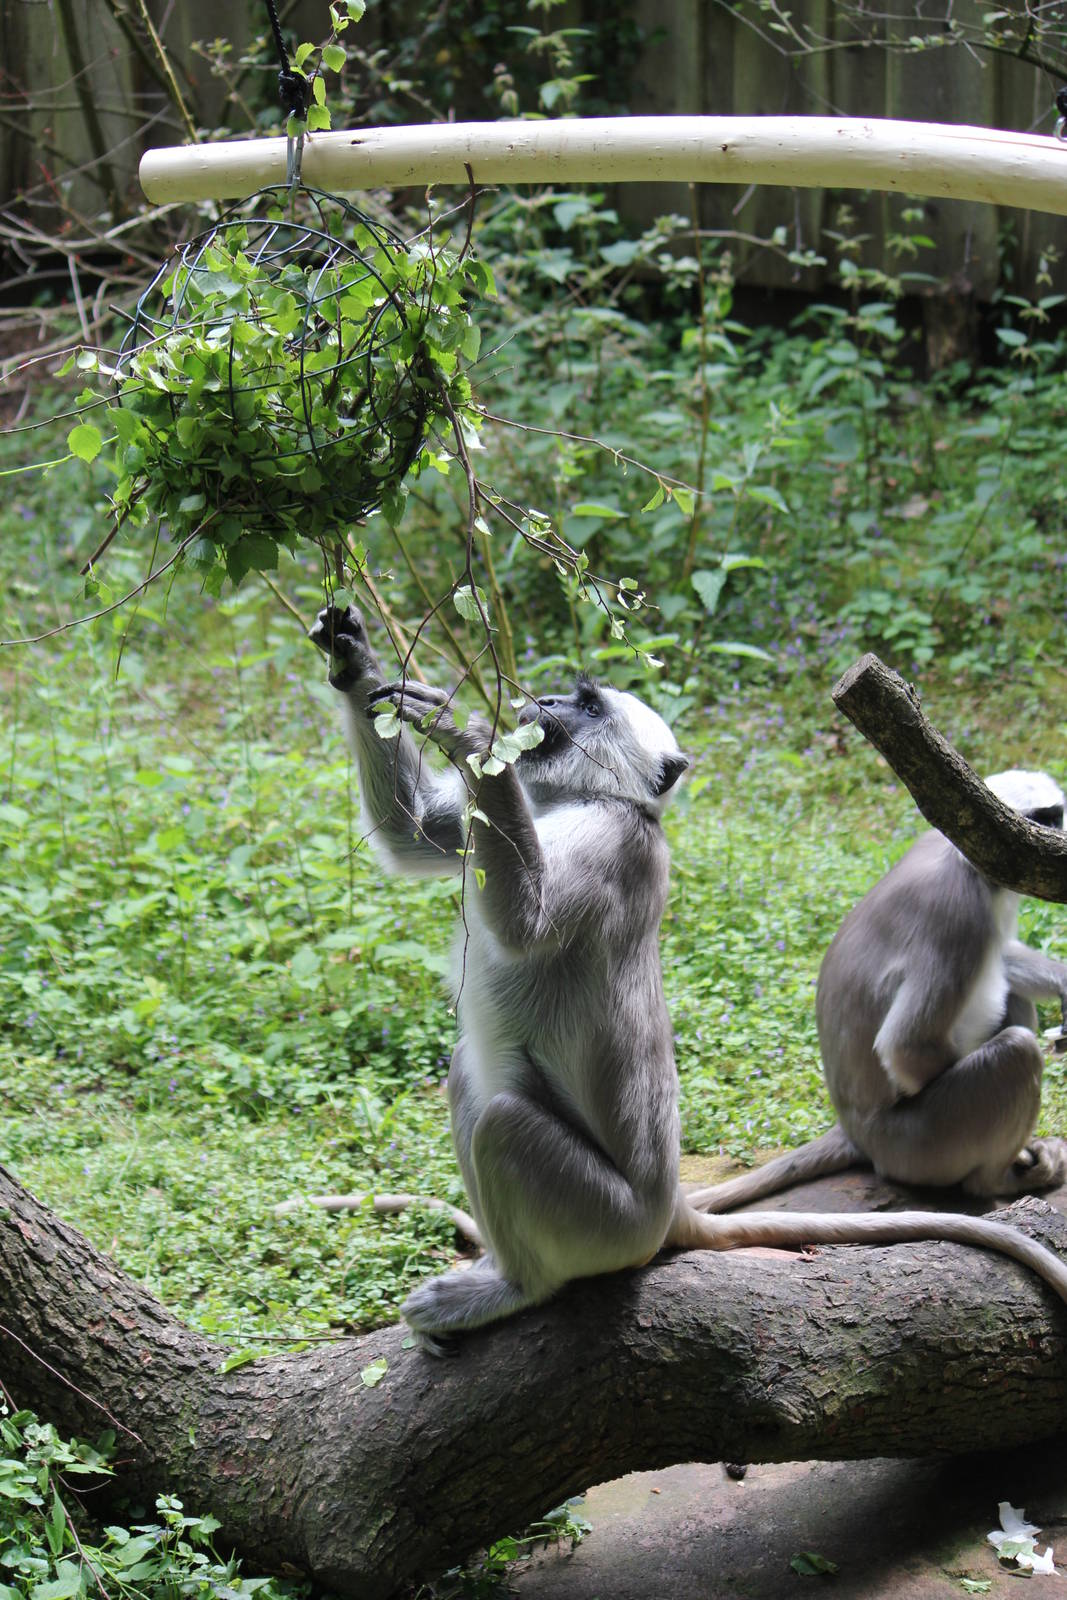monkey: (277, 581, 748, 1363), (778, 721, 1067, 1265)
